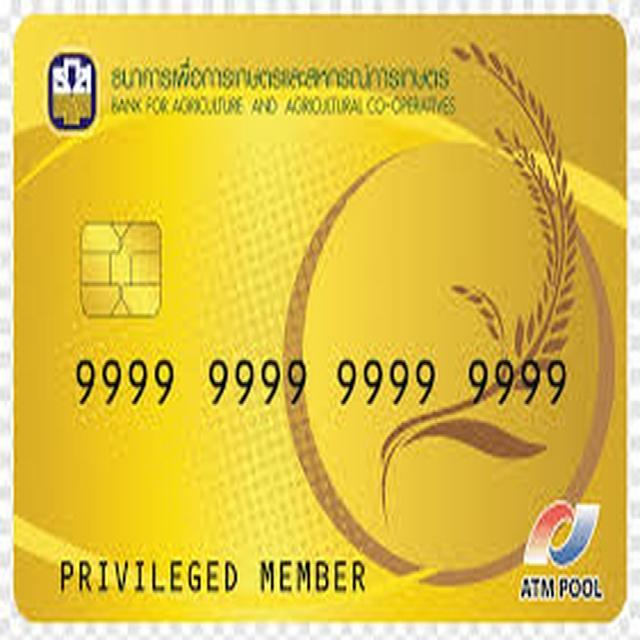card: (16, 15, 626, 626)
